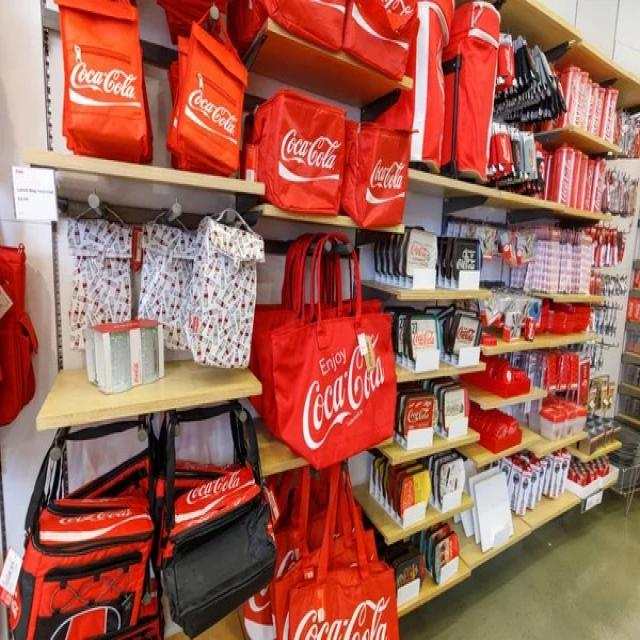coca cola: (303, 327, 398, 450), (68, 54, 148, 120), (293, 596, 395, 640), (278, 124, 343, 185), (186, 84, 238, 138), (367, 157, 406, 196)
